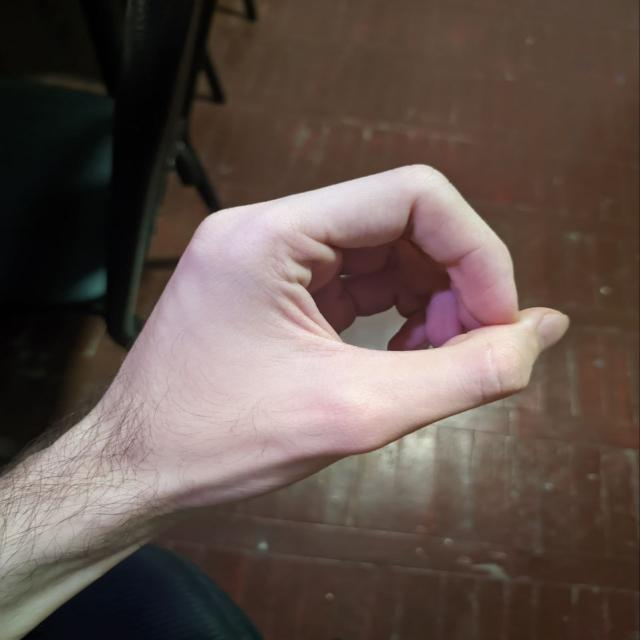e: (155, 132, 606, 476)
